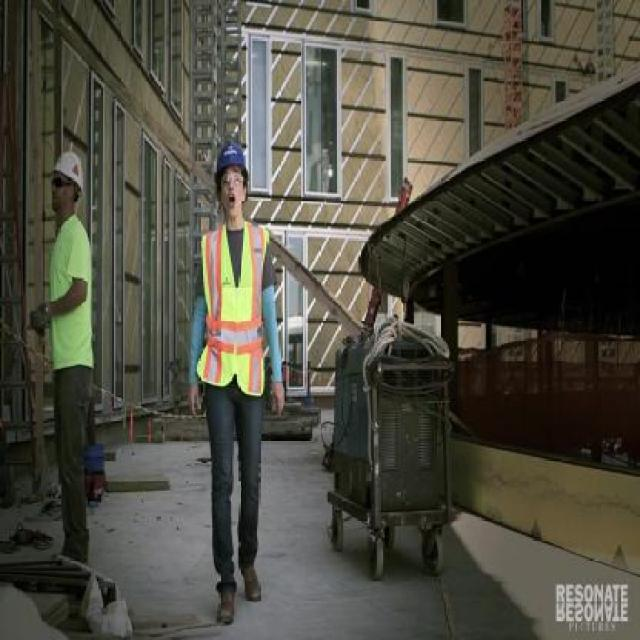Gloves: (27, 301, 53, 338)
Vest: (198, 220, 272, 398)
helmet: (213, 141, 252, 187), (54, 150, 83, 195)
person: (186, 138, 289, 628), (34, 148, 110, 570)
